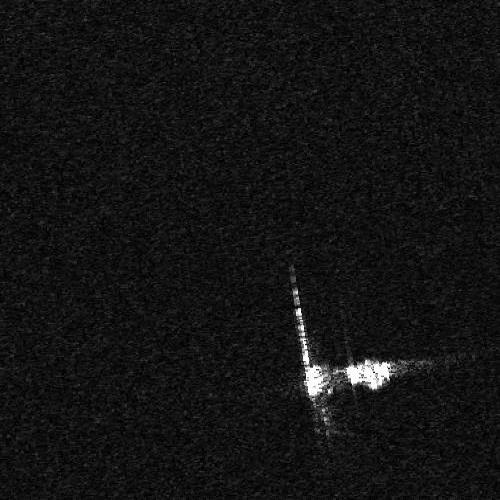ship: (304, 358, 397, 398)
